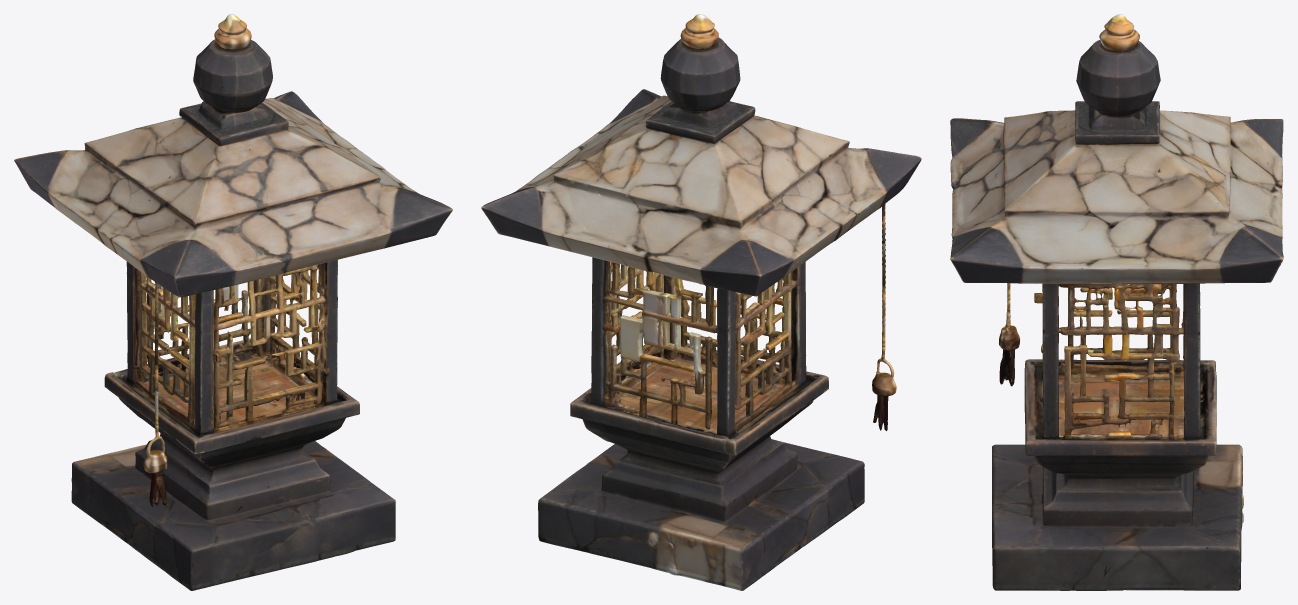
File: Meshy_AI_Stone_Lantern_1016065234_texture.fbx
3 views of the same model, side by side, from view 1: azimuth 30°, elevation 25°; view 2: azimuth 150°, elevation 25°; view 3: azimuth 270°, elevation 25° (orthographic). The views are drawn at different scales.
Parts seen in each view (by area): view 1: Mesh_0; view 2: Mesh_0; view 3: Mesh_0.
Part boxes in pixels (x1,y1,x2,y2): Mesh_0: (14,14,452,590); Mesh_0: (481,14,921,590); Mesh_0: (950,14,1283,590).
Bounding box in the file's own units: 115 × 200 × 115.
1 material, 1 textured.
